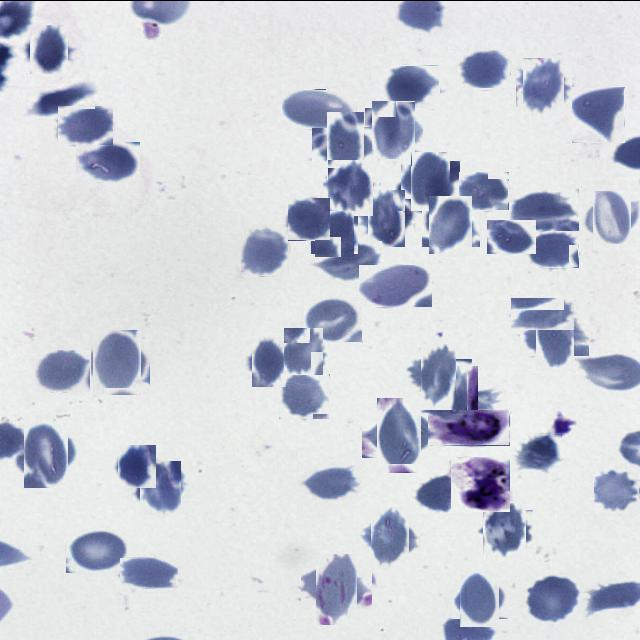red blood cell: (370, 404, 430, 464), (88, 334, 146, 391), (308, 560, 365, 616), (18, 426, 74, 482), (434, 376, 490, 431), (359, 264, 432, 306), (282, 88, 357, 128), (572, 86, 625, 142), (509, 188, 579, 230), (320, 118, 372, 172), (528, 310, 581, 362), (304, 296, 363, 342), (525, 574, 581, 622), (66, 528, 127, 572), (426, 198, 476, 250), (76, 141, 140, 181), (318, 240, 382, 280), (479, 505, 529, 556), (368, 104, 419, 154), (414, 351, 464, 402), (366, 512, 416, 562), (406, 155, 456, 205), (326, 162, 376, 212), (384, 64, 439, 109), (35, 349, 91, 392), (520, 60, 568, 110), (279, 373, 330, 419), (456, 574, 504, 622), (241, 228, 289, 276), (137, 463, 185, 511), (362, 193, 410, 240), (58, 105, 114, 145), (589, 194, 635, 240), (510, 297, 574, 330), (302, 464, 359, 500), (460, 48, 511, 88), (594, 468, 640, 512), (459, 171, 510, 210), (26, 27, 70, 71), (282, 328, 326, 372), (527, 231, 579, 267), (248, 339, 291, 382), (313, 212, 356, 255), (288, 197, 331, 240), (120, 557, 178, 587), (517, 432, 562, 470), (116, 446, 158, 486), (412, 473, 456, 511), (487, 219, 536, 253)
trophozoite: (451, 456, 510, 511), (428, 409, 510, 445)
